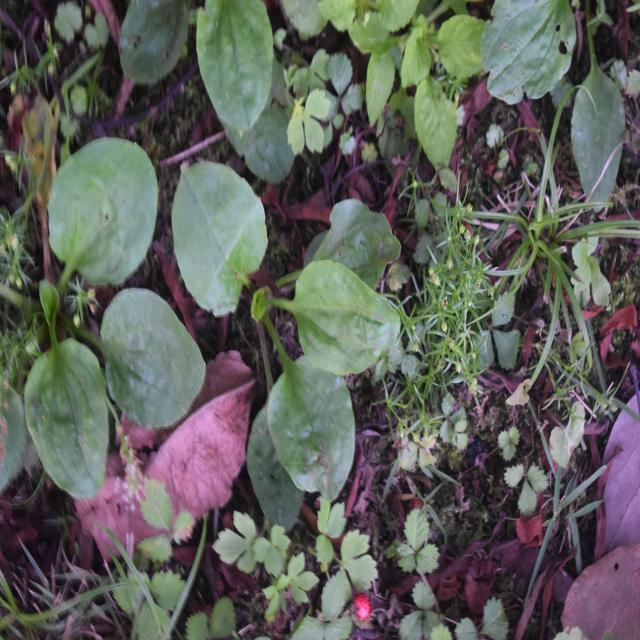plantain: (166, 148, 404, 502)
